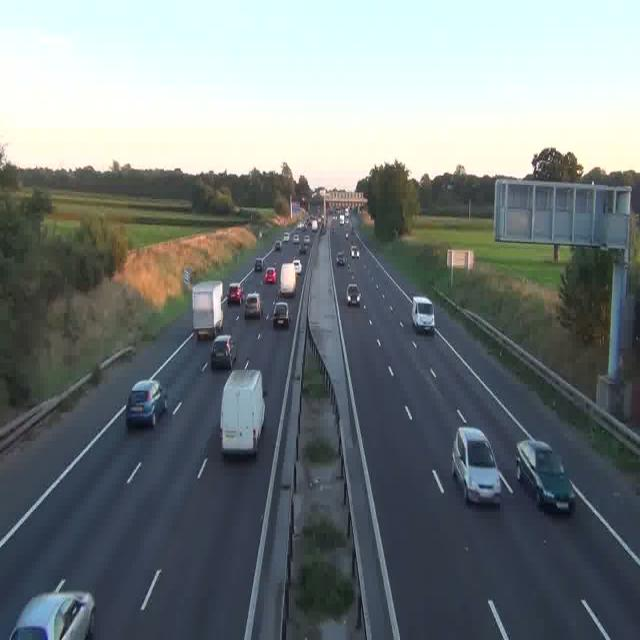car: (516, 440, 574, 514), (11, 589, 95, 640), (452, 427, 504, 505), (126, 378, 166, 428), (210, 333, 238, 370), (410, 296, 436, 332), (272, 300, 290, 329), (242, 294, 262, 318), (226, 282, 244, 306), (346, 282, 360, 306), (264, 266, 278, 285), (254, 258, 264, 273), (336, 253, 346, 266), (352, 244, 360, 257), (299, 244, 307, 256), (280, 234, 288, 245), (276, 239, 283, 250)
truck: (221, 368, 265, 457), (191, 278, 225, 339), (311, 218, 319, 229)
